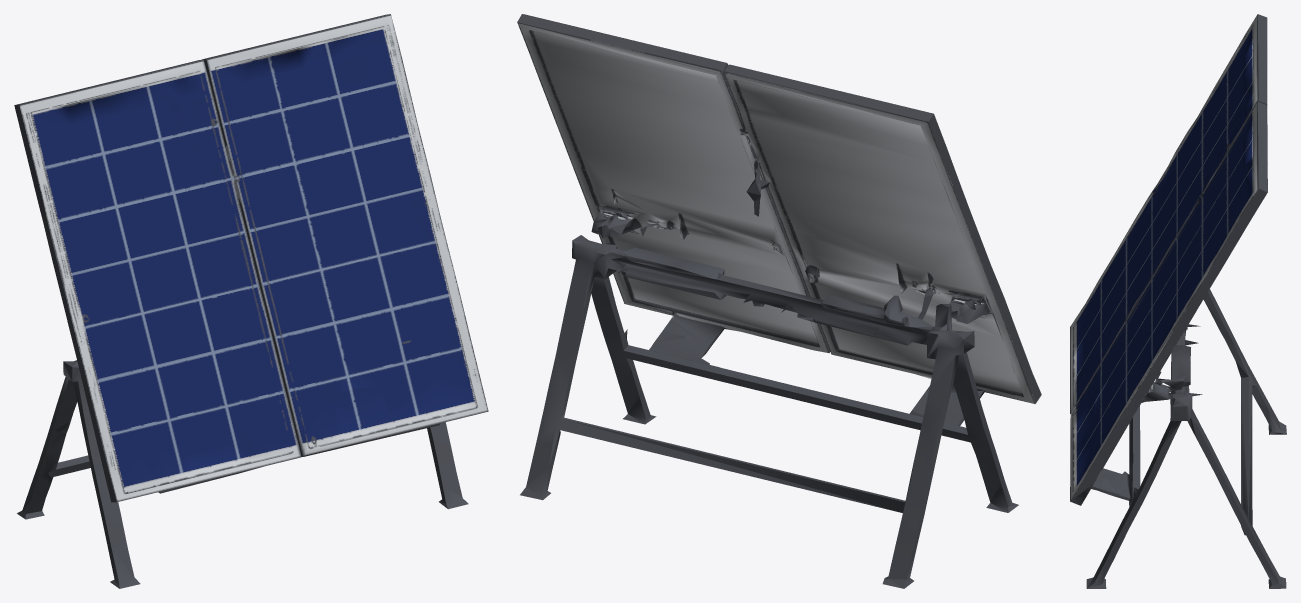
File: roof_solar.glb
3 views of the same model, side by side, from view 1: azimuth 30°, elevation 25°; view 2: azimuth 150°, elevation 25°; view 3: azimuth 270°, elevation 25° (orthographic). The views are drawn at different scales.
Visible parts, largest first — view 1: low; view 2: low; view 3: low.
Boxes of the visible parts, left/top/right/bottom form: low: left=14, top=14, right=488, bottom=588; low: left=517, top=14, right=1041, bottom=588; low: left=1070, top=14, right=1286, bottom=588.
Bounding box in the file's own units: 2 × 2.17 × 1.05.
1 material, 1 textured.
